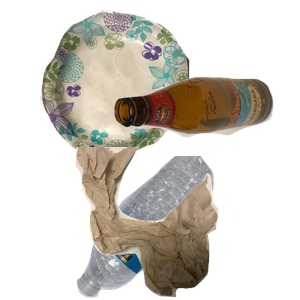glass: (111, 74, 300, 204)
paper: (37, 10, 219, 167)
plastic: (74, 156, 280, 300)
trash: (73, 147, 300, 300)
